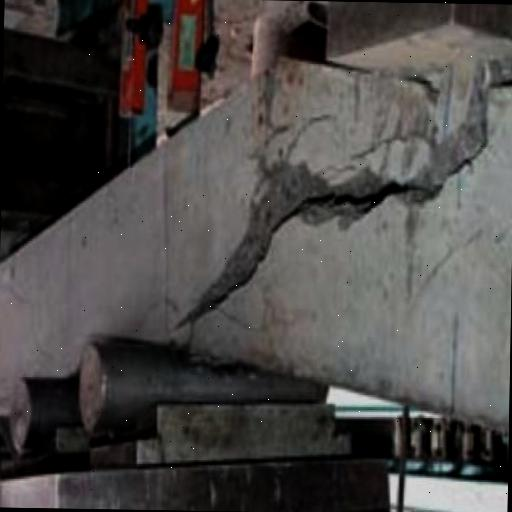spalling: (174, 77, 493, 328)
